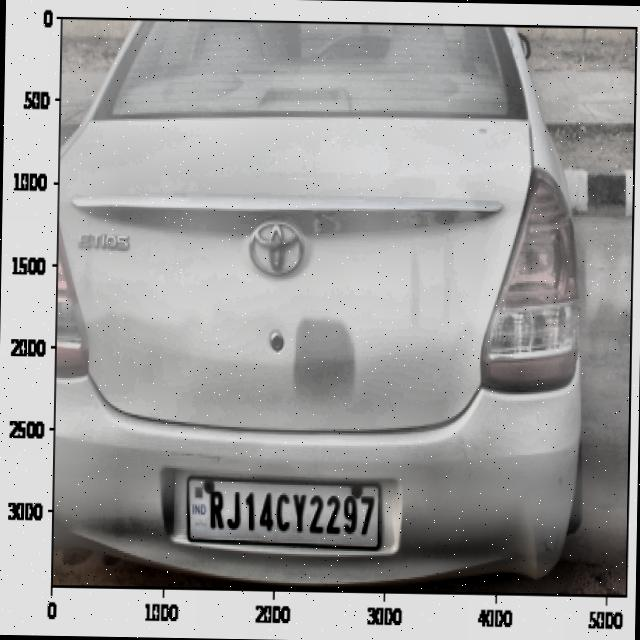license_plate: (195, 476, 380, 544)
